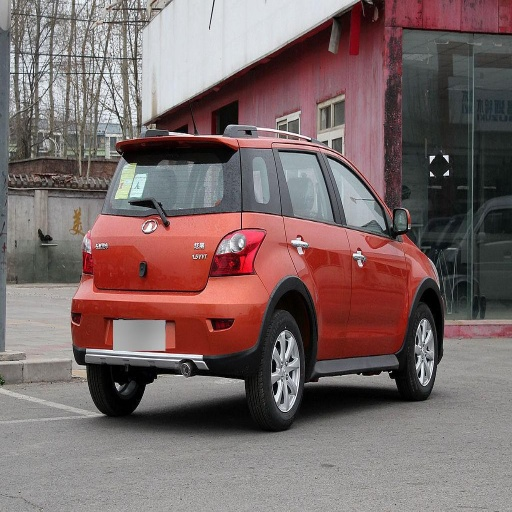back_bumper: (71, 273, 270, 362)
back_right_door: (273, 144, 350, 354)
trunk: (90, 216, 236, 318)
